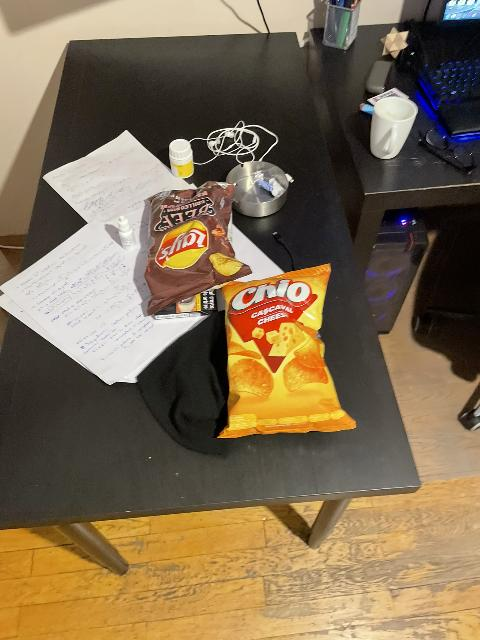Chio Cascaval 125g: (224, 271, 355, 434)
Lays Beef Grilled Ribs 125g: (142, 184, 252, 314)
